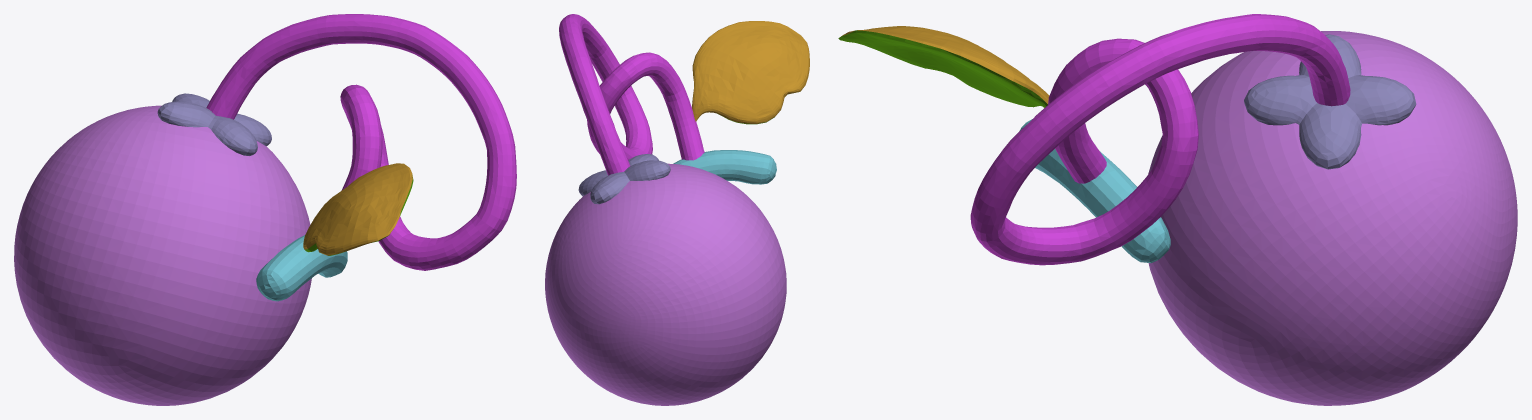
The picture shows the model from 3 angles, left to right: view 1: azimuth 30°, elevation 25°; view 2: azimuth 150°, elevation 25°; view 3: azimuth 270°, elevation 25°; orthographic projection. The views are drawn at different scales.
Parts seen in each view (by area): view 1: world; view 2: world; view 3: world.
Part boxes in pixels (<box>): world: <box>14,14,516,405</box>; world: <box>545,14,809,405</box>; world: <box>838,14,1517,405</box>.
Size of the model in its own units: 1.51 by 1.51 by 2.
